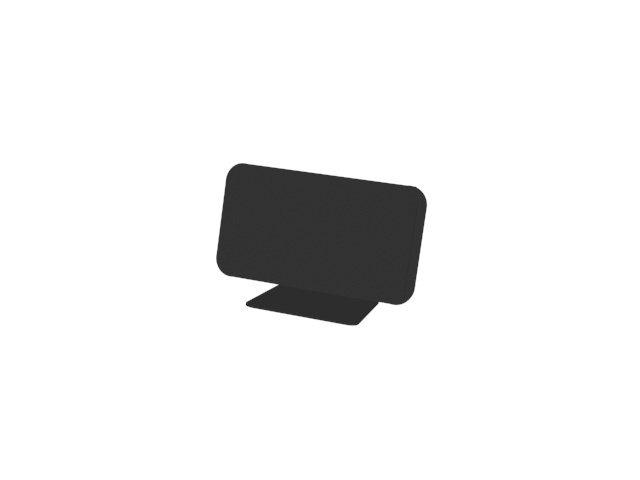monitor: (215, 161, 432, 328)
